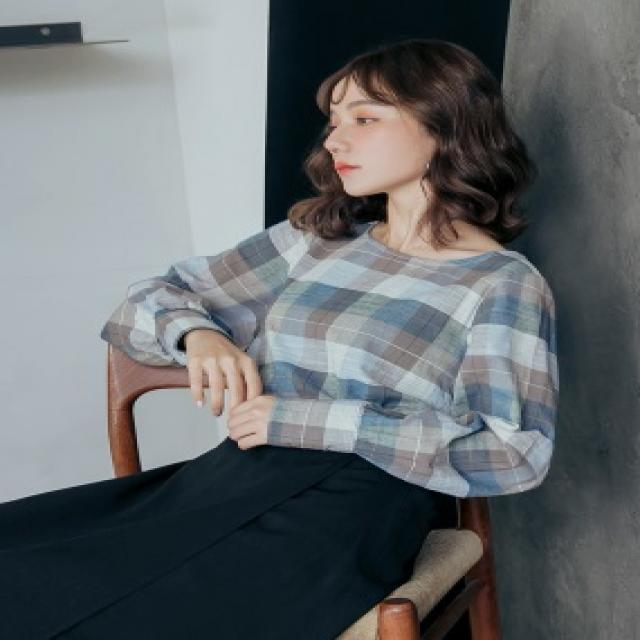plaid: (104, 177, 568, 490)
